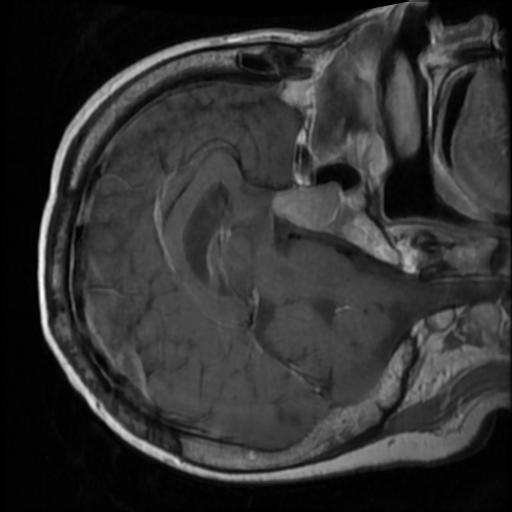pituitary tumour: (269, 183, 344, 232)
